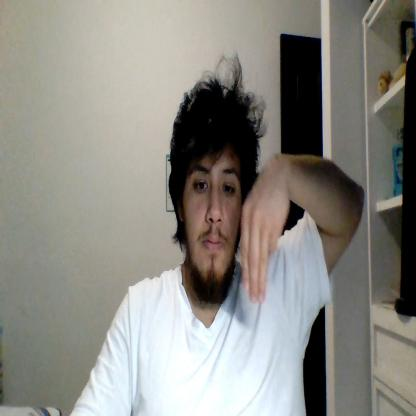M: (241, 184, 290, 305)
